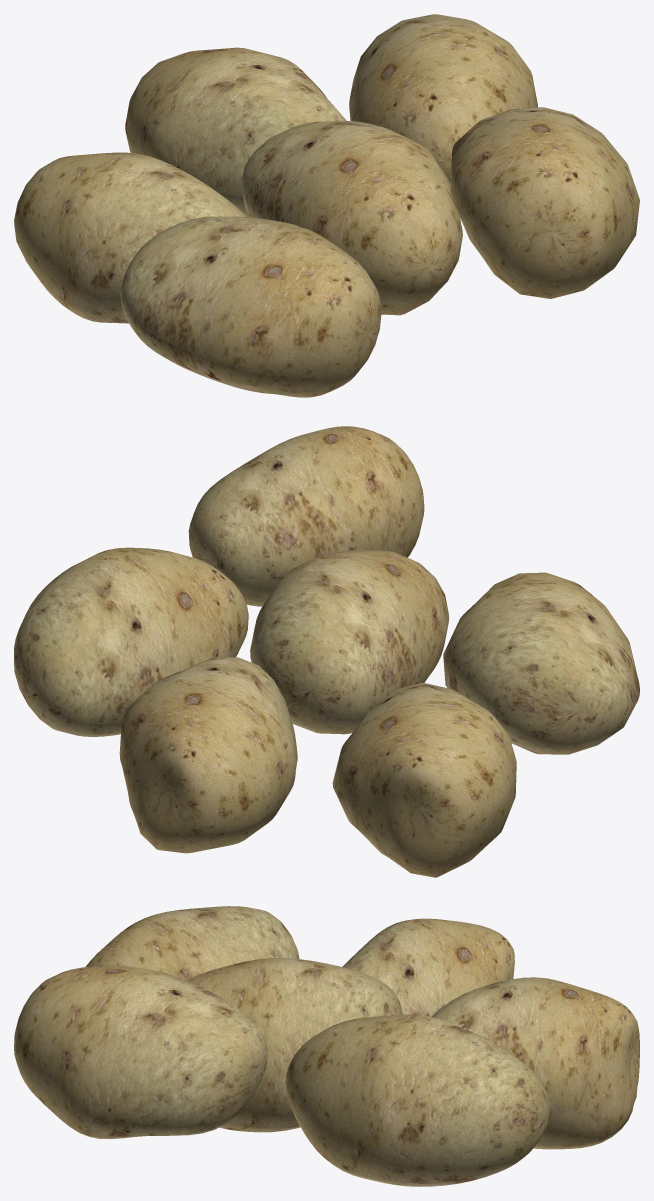
File: Potato.fbx
The picture shows the model from 3 angles, top to bottom: view 1: azimuth 30°, elevation 25°; view 2: azimuth 150°, elevation 25°; view 3: azimuth 270°, elevation 25°; orthographic projection. The views are drawn at different scales.
Parts seen in each view (by area): view 1: Potato1, Potato3, Potato, Potato2, Potato5, Potato4; view 2: Potato4, Potato5, Potato3, Potato, Potato2, Potato1; view 3: Potato4, Potato3, Potato5, Potato, Potato2, Potato1.
Part boxes in pixels (left/top/right/bottom): Potato1: left=120, top=216, right=381, bottom=397; Potato3: left=450, top=107, right=639, bottom=298; Potato: left=240, top=121, right=462, bottom=315; Potato2: left=14, top=152, right=246, bottom=323; Potato5: left=125, top=47, right=346, bottom=217; Potato4: left=349, top=14, right=537, bottom=182; Potato4: left=14, top=547, right=248, bottom=736; Potato5: left=119, top=656, right=297, bottom=853; Potato3: left=188, top=426, right=424, bottom=606; Potato: left=250, top=550, right=449, bottom=734; Potato2: left=332, top=683, right=516, bottom=877; Potato1: left=443, top=572, right=639, bottom=754; Potato4: left=285, top=1014, right=549, bottom=1186; Potato3: left=14, top=965, right=267, bottom=1139; Potato5: left=431, top=977, right=639, bottom=1149; Potato: left=186, top=958, right=402, bottom=1132; Potato2: left=342, top=918, right=514, bottom=1016; Potato1: left=85, top=906, right=299, bottom=980.
Size of the model in its own units: 185 by 87.48 by 209.
